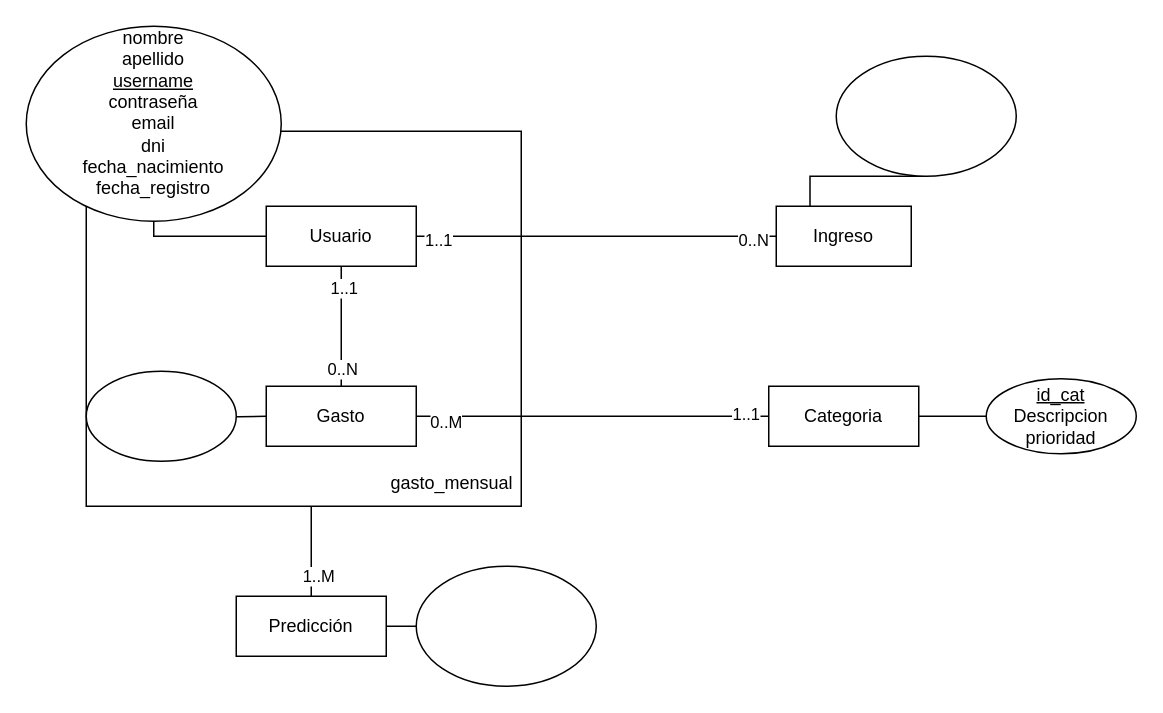
Image size: 1163x713. Some labels were removed from this diagram. Each missing label, with the centre of its shape:
id_gasto fecha_gasto monto descripcion: pixel 160 415
id_ingreso fecha_ingreso monto descripcion: pixel 925 115
id_prediccion fecha_a_predecir gasto_futuro: pixel 505 625
